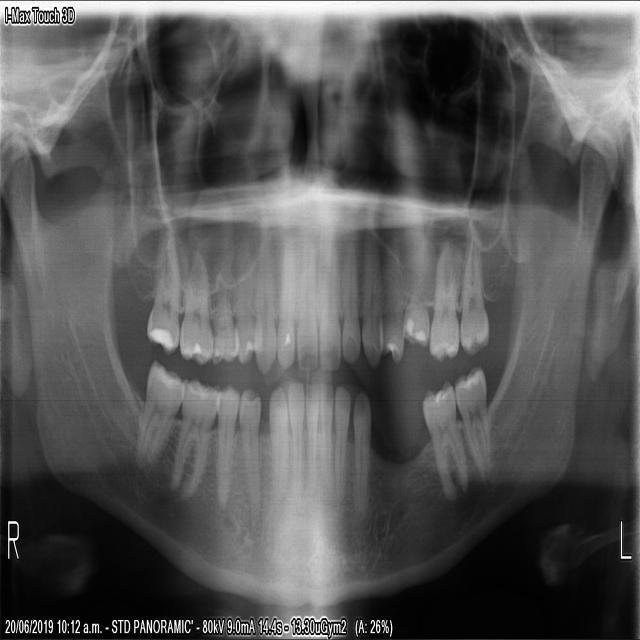LCD: (351, 387, 370, 516)
LCU: (360, 215, 383, 369)
LID: (331, 381, 350, 502), (317, 379, 333, 499)
LIU: (316, 227, 340, 372), (340, 229, 360, 364)
LMD: (419, 374, 467, 504), (452, 360, 488, 478)
LMU: (427, 236, 460, 362), (458, 235, 489, 356)
LPMU: (399, 235, 433, 350), (377, 228, 403, 364)
RCD: (266, 382, 287, 524)
RCU: (252, 227, 277, 377)
RID: (286, 376, 304, 504), (302, 380, 319, 492)
RIU: (294, 223, 317, 372), (275, 232, 294, 370)
RMD: (168, 374, 220, 496), (133, 357, 184, 471)
RMU: (143, 232, 182, 356), (176, 246, 213, 367)
RPMD: (236, 386, 261, 529), (213, 381, 240, 509)
RPMU: (231, 240, 262, 367), (208, 257, 240, 368)
